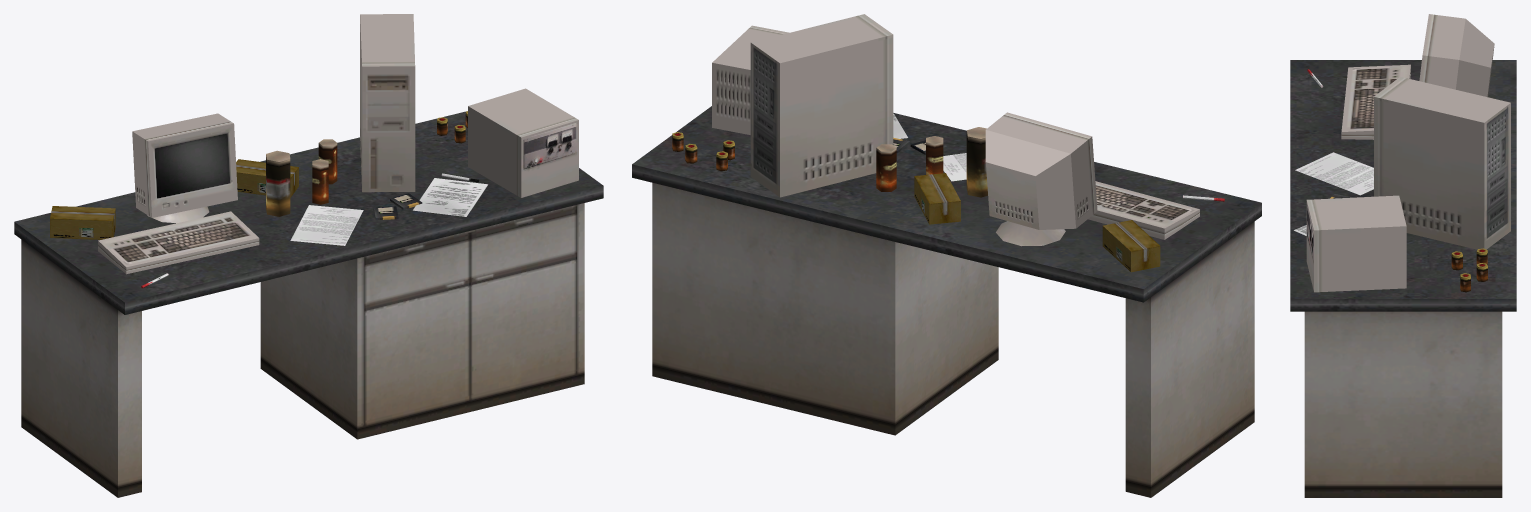
File: labdesk5.fbx
3 renders of one model, left to right at view 1: azimuth 30°, elevation 25°; view 2: azimuth 150°, elevation 25°; view 3: azimuth 270°, elevation 25°, orthographic. The views are drawn at different scales.
Visible parts, largest first — view 1: mesh_0; view 2: mesh_0; view 3: mesh_0.
Part boxes in pixels (<box>): mesh_0: <box>14,14,603,497</box>; mesh_0: <box>632,14,1261,497</box>; mesh_0: <box>1290,14,1516,497</box>.
Size of the model in its own units: 200 by 130 by 80.
1 material, 1 textured.
